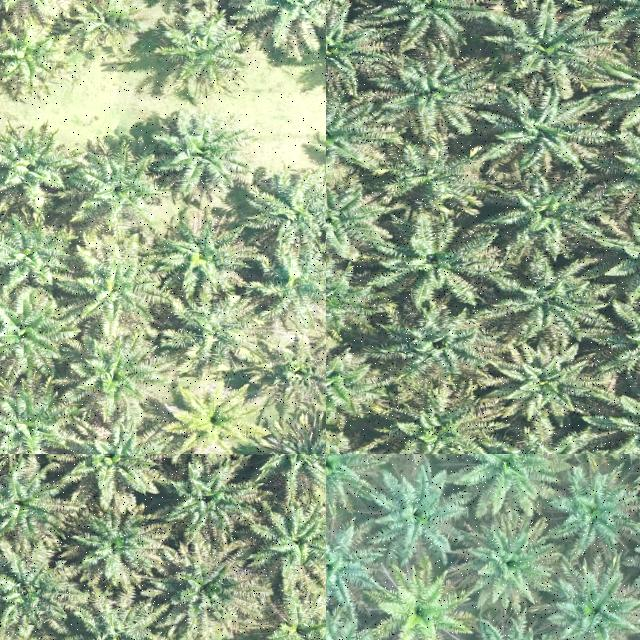Ganoderma: (182, 393, 244, 447)
